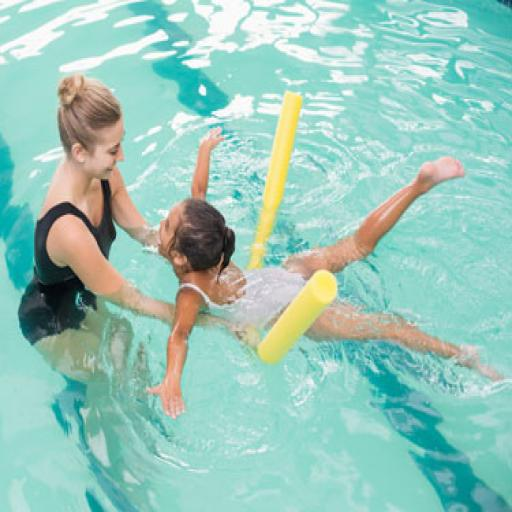swimming: (145, 124, 505, 420)
